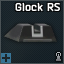Glock rear sight: (0, 0, 64, 64)
